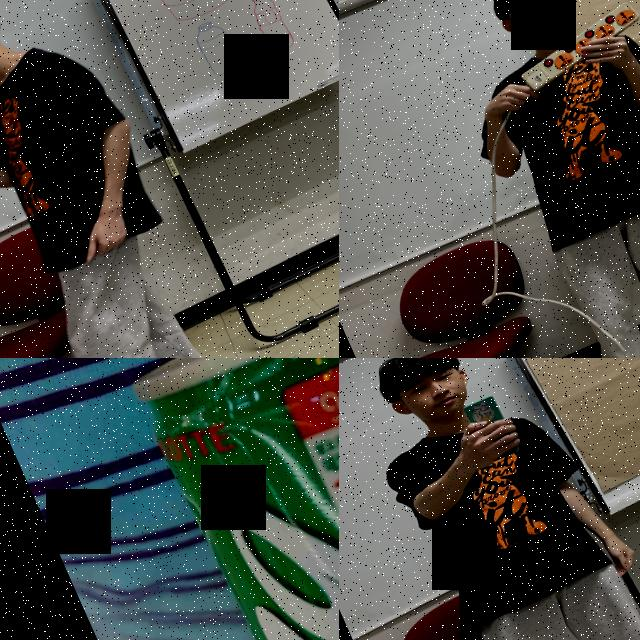can: (121, 358, 339, 640)
